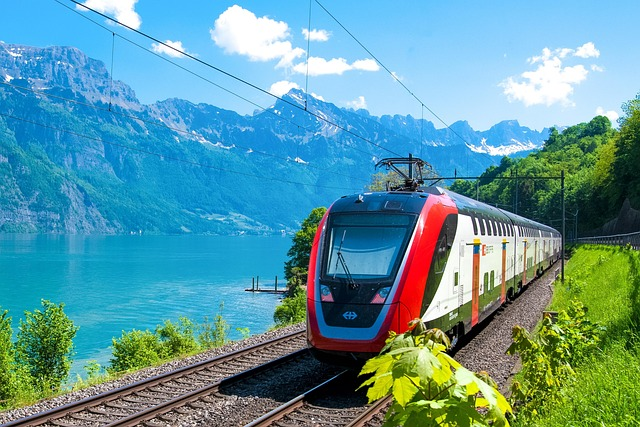train1: (302, 181, 562, 370)
